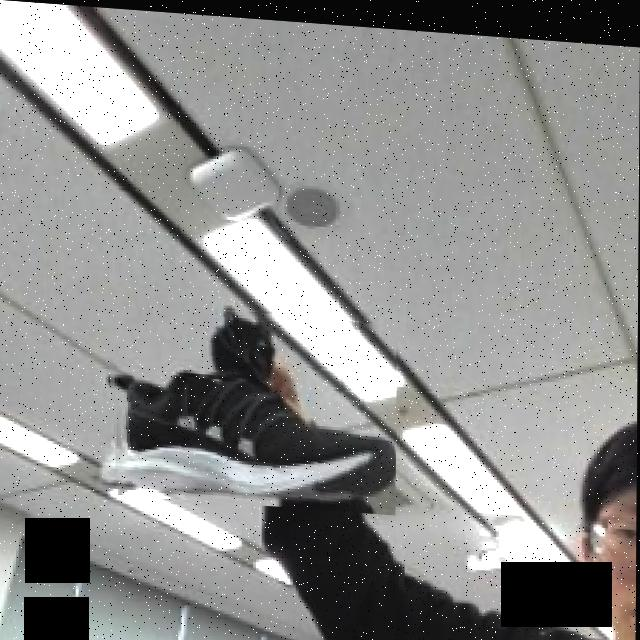shoe: (104, 296, 397, 509)
